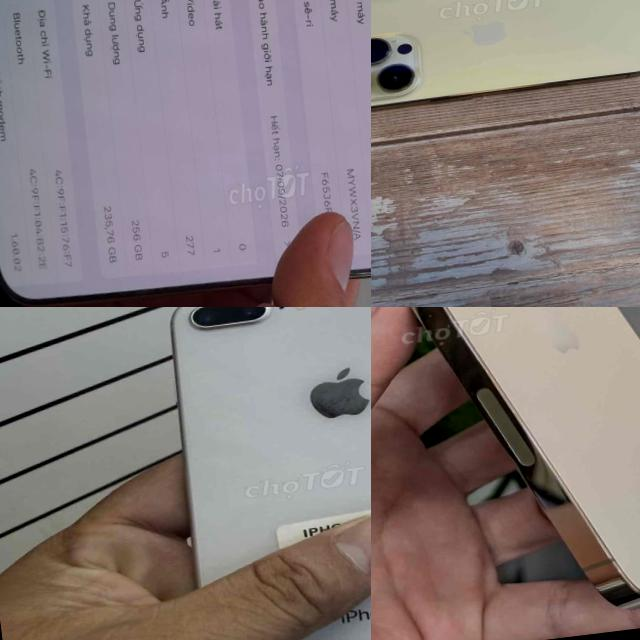gen_14: (371, 0, 640, 129)
gen_16: (0, 0, 371, 304), (371, 307, 640, 640)
gen_7_8: (154, 307, 371, 640)
